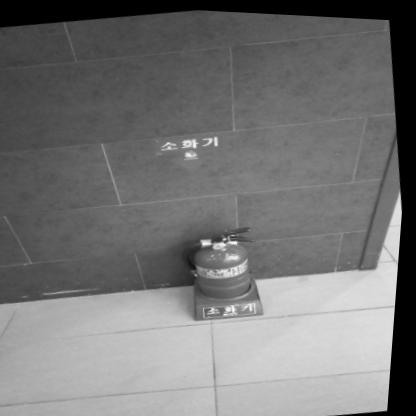FE: (180, 220, 272, 322)
